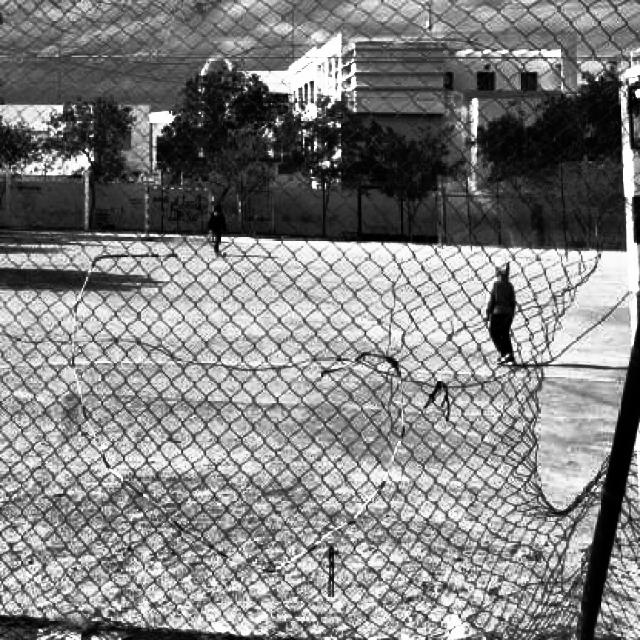anomaly-fence: (526, 192, 640, 544)
